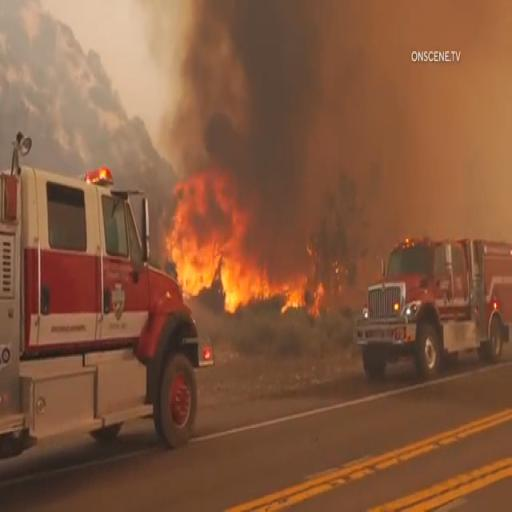fire: (171, 158, 331, 320)
smoke: (209, 4, 397, 164)
